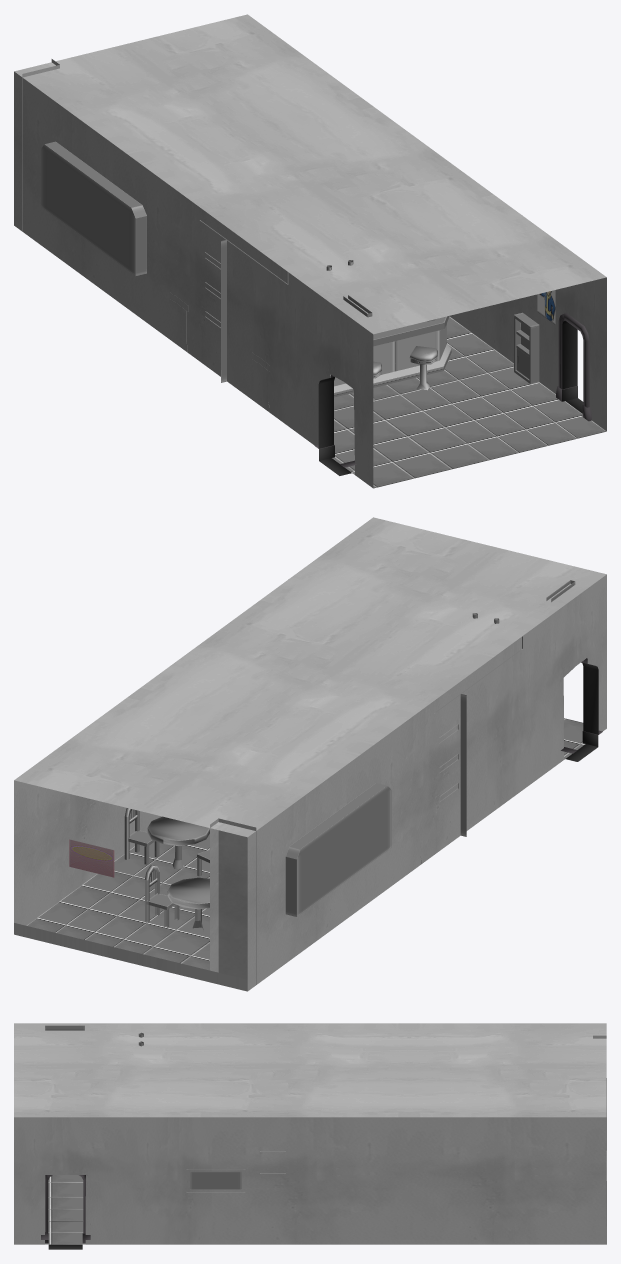
Rendered from MSH_Bar_room_L3_R1.fbx.
3 renders of one model, top to bottom at view 1: azimuth 30°, elevation 25°; view 2: azimuth 150°, elevation 25°; view 3: azimuth 270°, elevation 25°, orthographic. The views are drawn at different scales.
Parts seen in each view (by area): view 1: MSH_Bar_room_L3_R1_Walls, MSH_Bar_room_L3_R1 1, MSH_Bar_room_L3_R1_lights; view 2: MSH_Bar_room_L3_R1_Walls, MSH_Bar_room_L3_R1 1, MSH_Bar_room_L3_R1_lights; view 3: MSH_Bar_room_L3_R1_Walls, MSH_Bar_room_L3_R1 1.
Part boxes in pixels (x1,y1,x2,y2): MSH_Bar_room_L3_R1_Walls: (14, 14, 606, 488); MSH_Bar_room_L3_R1 1: (22, 59, 555, 401); MSH_Bar_room_L3_R1_lights: (318, 320, 583, 475); MSH_Bar_room_L3_R1_Walls: (14, 517, 606, 991); MSH_Bar_room_L3_R1 1: (69, 613, 522, 984); MSH_Bar_room_L3_R1_lights: (566, 662, 598, 761); MSH_Bar_room_L3_R1_Walls: (14, 1023, 606, 1244); MSH_Bar_room_L3_R1 1: (138, 1032, 606, 1192).
Size of the model in its own units: 10.3 by 6.07 by 24.78.
